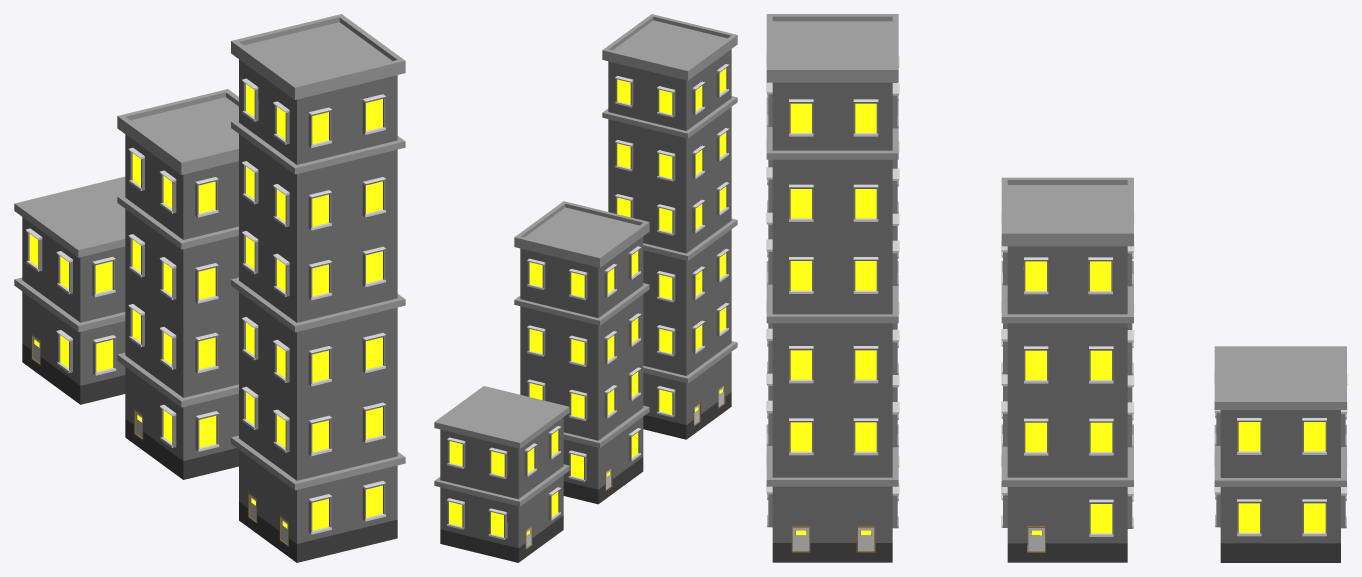
File: Buildings1x1.fbx
3 views of the same model, side by side, from view 1: azimuth 30°, elevation 25°; view 2: azimuth 150°, elevation 25°; view 3: azimuth 270°, elevation 25° (orthographic). The views are drawn at different scales.
Visible parts, largest first — view 1: Cube.003, Cube.002, Cube.001; view 2: Cube.003, Cube.002, Cube.001; view 3: Cube.003, Cube.002, Cube.001.
Part boxes in pixels (x1,y1,x2,y2): Cube.003: [231, 14, 405, 562]; Cube.002: [117, 89, 238, 479]; Cube.001: [14, 176, 125, 404]; Cube.003: [602, 14, 737, 439]; Cube.002: [514, 201, 649, 504]; Cube.001: [434, 386, 569, 562]; Cube.003: [766, 14, 899, 562]; Cube.002: [1001, 177, 1134, 562]; Cube.001: [1214, 346, 1347, 562].
Bounding box in the file's own units: 2421 × 10008 × 10633.
